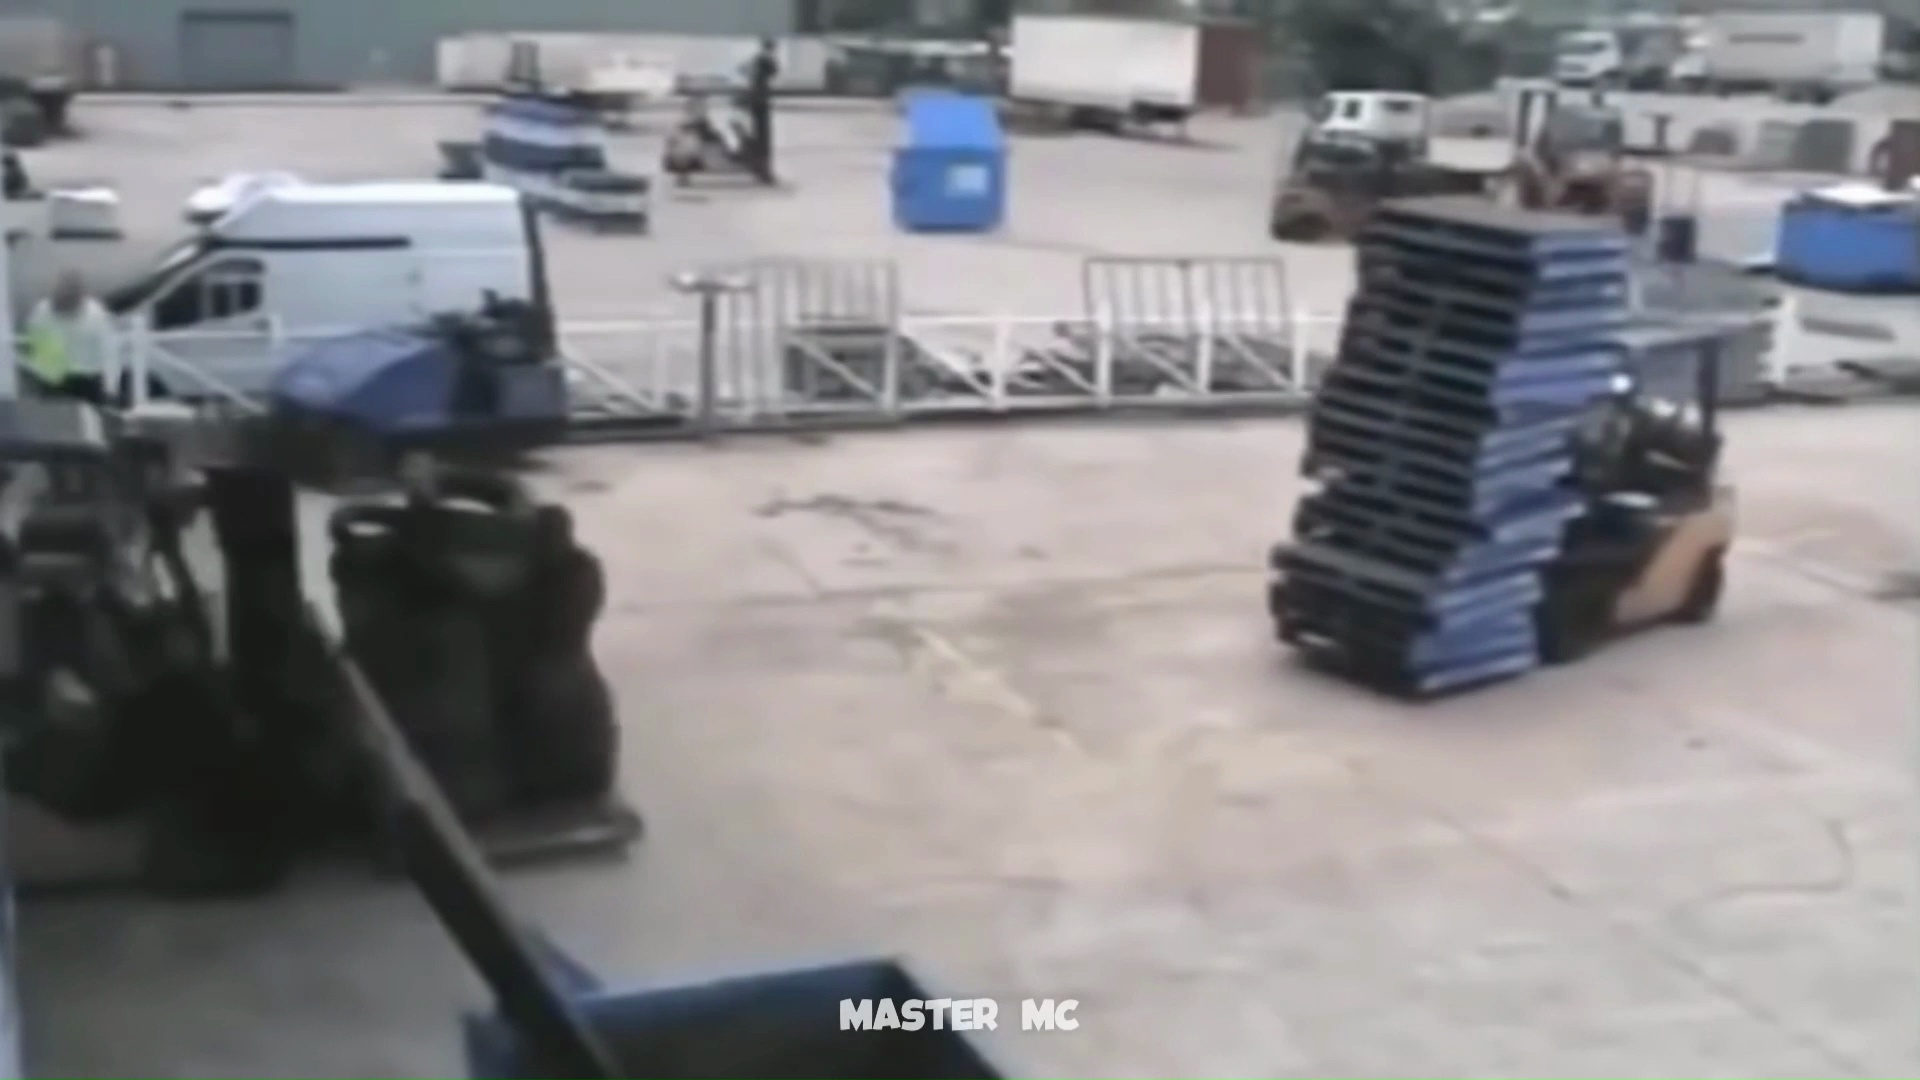forklift: (3, 396, 632, 884), (1261, 199, 1743, 703)
